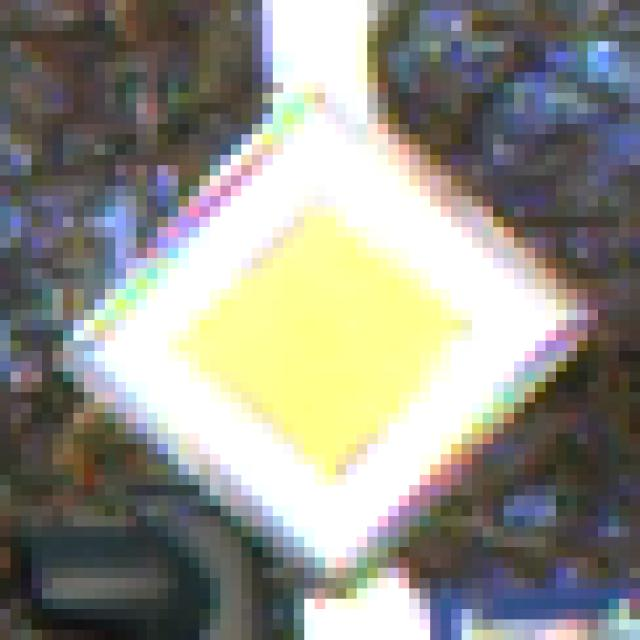Main Road: (54, 63, 589, 589)
